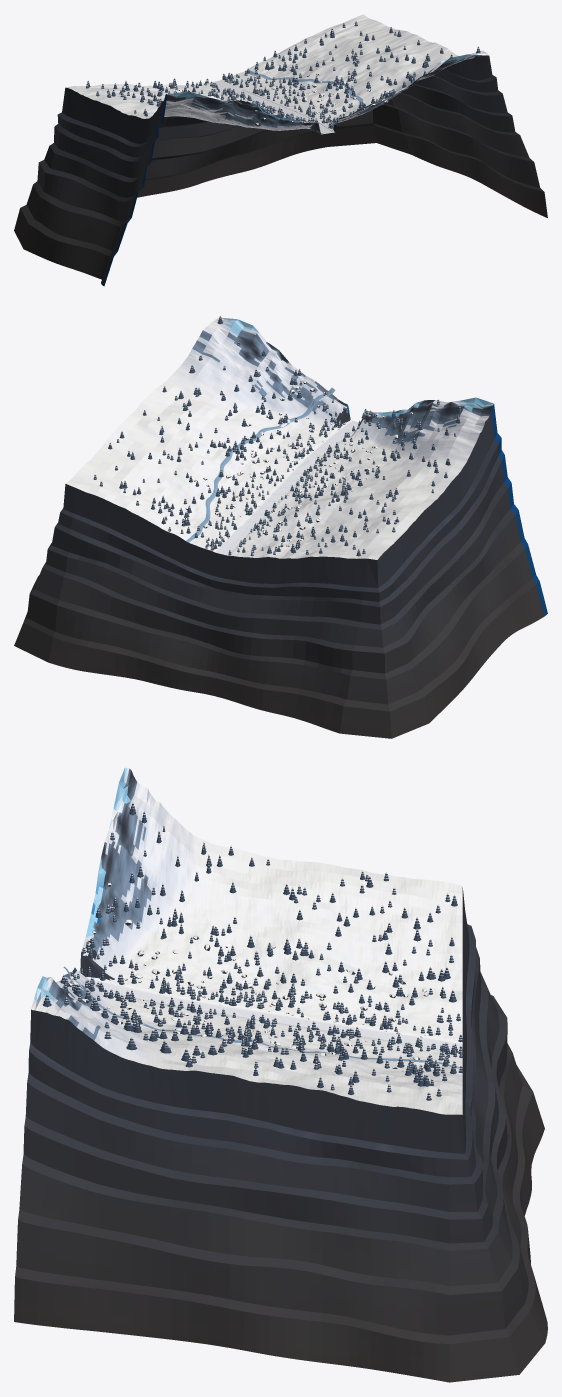
The model's file is ss_zone1.fbx.
3 views of the same model, one above another, from view 1: azimuth 30°, elevation 25°; view 2: azimuth 150°, elevation 25°; view 3: azimuth 270°, elevation 25° (orthographic). The views are drawn at different scales.
Parts seen in each view (by area): view 1: Z1_Terrain_L_-420, Z1_Terrain_R_-420, Z1_Terrain_L_500, Z1_Terrain_L_0, Z1_Terrain_R_0, Z1_Terrain_R_500, Z1_Pines_02, Z1_Pines_01, Z1_Pines_03, Z1_Pines_04, Z1_StartDeck, Z1_Rocks_01; view 2: Z1_Terrain_R_-420, Z1_Terrain_L_-420, Z1_Terrain_R_500, Z1_Terrain_R_0, Z1_Terrain_L_500, Z1_Terrain_L_0, Z1_StartDeck, Z1_Pines_03, Z1_Pines_02, Z1_Pines_01, Z1_Pines_04, Z1_Pines_05 (+4 smaller); view 3: Z1_Terrain_L_500, Z1_Terrain_L_-420, Z1_Terrain_L_0, Z1_Terrain_R_-420, Z1_Terrain_R_500, Z1_Terrain_R_0, Z1_Pines_04, Z1_Pines_03, Z1_Pines_02, Z1_Pines_05, Z1_Pines_01, Z1_Pines_06 (+3 smaller).
Boxes of the visible parts, box(x1,y1,x2,y2) form: Z1_Terrain_L_-420: box(199, 14, 442, 183); Z1_Terrain_R_-420: box(14, 83, 240, 262); Z1_Terrain_L_500: box(300, 46, 547, 217); Z1_Terrain_L_0: box(257, 30, 487, 186); Z1_Terrain_R_0: box(54, 98, 285, 278); Z1_Terrain_R_500: box(99, 91, 322, 286); Z1_Pines_02: box(266, 30, 443, 114); Z1_Pines_01: box(222, 21, 393, 95); Z1_Pines_03: box(86, 46, 480, 128); Z1_Pines_04: box(96, 81, 258, 104); Z1_StartDeck: box(189, 80, 242, 187); Z1_Rocks_01: box(173, 66, 388, 130); Z1_Terrain_R_-420: box(207, 516, 463, 738); Z1_Terrain_L_-420: box(14, 444, 251, 691); Z1_Terrain_R_500: box(311, 397, 547, 640); Z1_Terrain_R_0: box(269, 468, 503, 687); Z1_Terrain_L_500: box(149, 317, 351, 465); Z1_Terrain_L_0: box(103, 394, 297, 511); Z1_StartDeck: box(194, 526, 252, 694); Z1_Pines_03: box(189, 315, 365, 556); Z1_Pines_02: box(116, 386, 304, 503); Z1_Pines_01: box(93, 442, 256, 550); Z1_Pines_04: box(239, 494, 399, 550); Z1_Pines_05: box(285, 452, 450, 499); Z1_Terrain_L_500: box(14, 967, 212, 1344); Z1_Terrain_L_-420: box(348, 1036, 547, 1382); Z1_Terrain_L_0: box(208, 1013, 348, 1365); Z1_Terrain_R_-420: box(348, 868, 544, 1215); Z1_Terrain_R_500: box(80, 767, 216, 1003); Z1_Terrain_R_0: box(213, 845, 348, 1025); Z1_Pines_04: box(300, 871, 443, 1035); Z1_Pines_03: box(42, 893, 462, 1053); Z1_Pines_02: box(181, 1000, 334, 1090); Z1_Pines_05: box(180, 842, 302, 1013); Z1_Pines_01: box(331, 1024, 463, 1100); Z1_Pines_06: box(82, 802, 185, 994).
Size of the model in its own units: 2685 by 1401 by 1937.
1 material, 1 textured.
